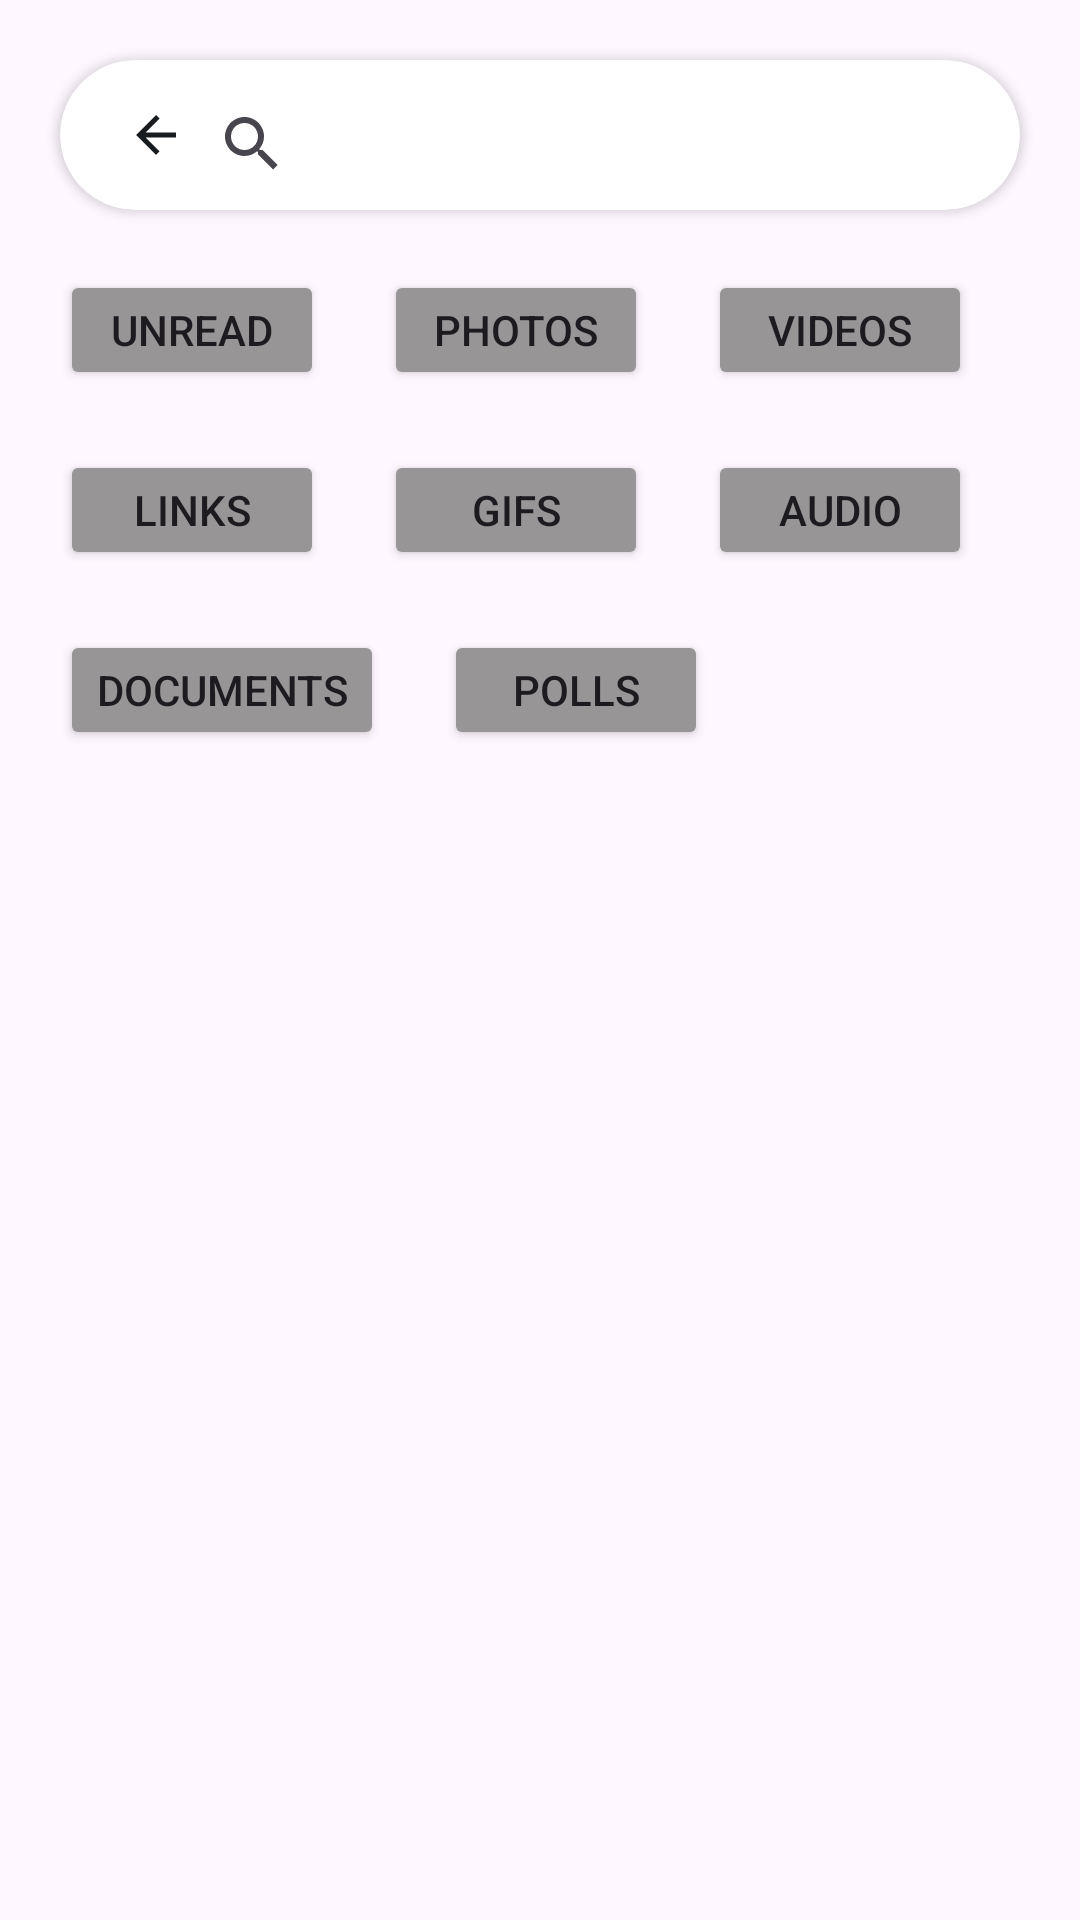

Named icons in this screenshot (1080 × 1920) and their centers, (x=x, y=y):
backaero searchingin: (x=156, y=135)
